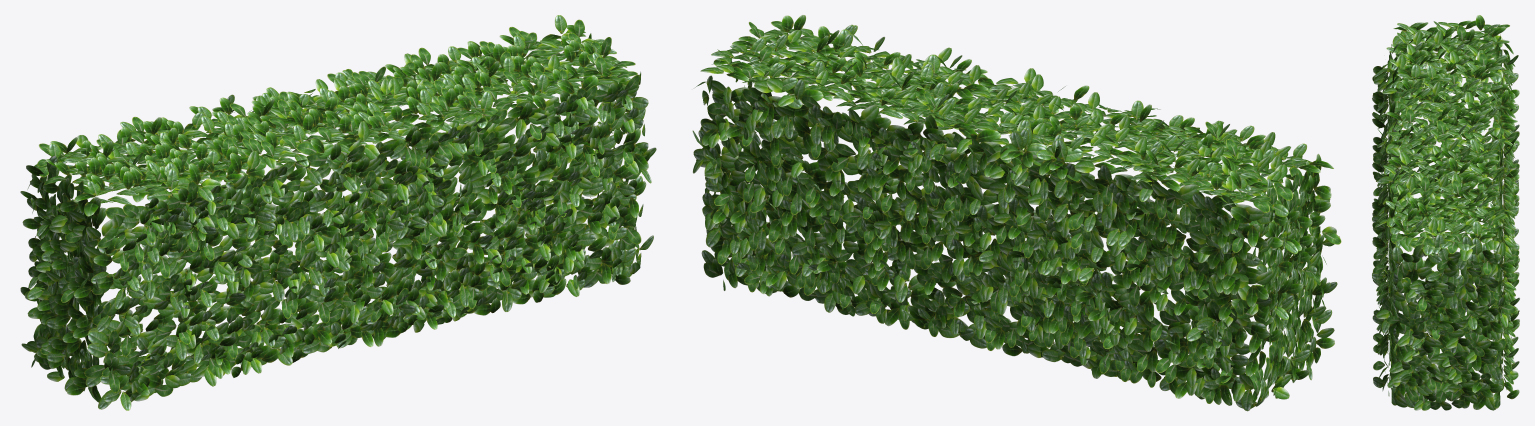
The model's file is hedge.gltf.
3 renders of one model, left to right at view 1: azimuth 30°, elevation 25°; view 2: azimuth 150°, elevation 25°; view 3: azimuth 270°, elevation 25°, orthographic. The views are drawn at different scales.
Parts seen in each view (by area): view 1: Hedge; view 2: Hedge; view 3: Hedge.
Part boxes in pixels (x1,y1,x2,y2): Hedge: (20, 15, 656, 410); Hedge: (692, 15, 1341, 411); Hedge: (1372, 15, 1519, 410).
Size of the model in its own units: 469 by 177 by 127.
Materials: 4 (4 with a texture image).
